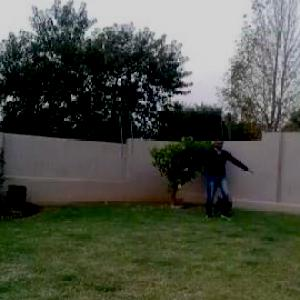land: (176, 130, 255, 222)
